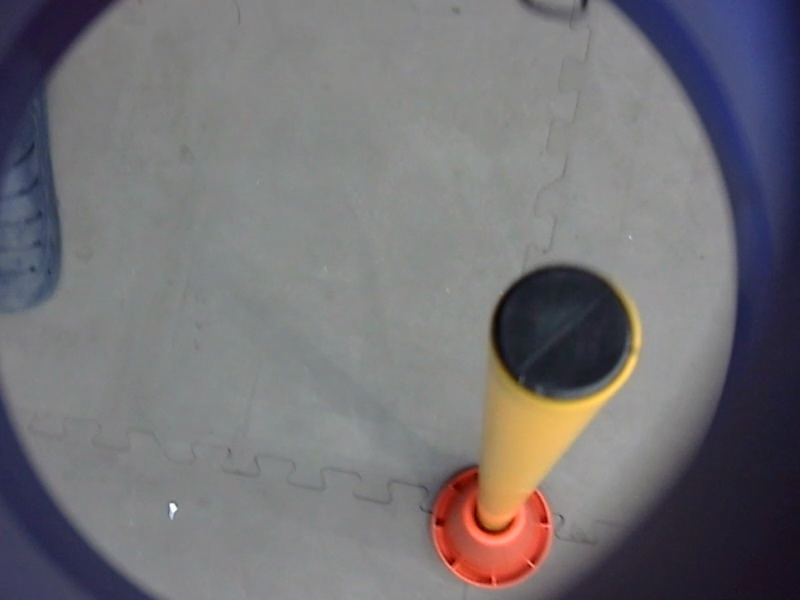tip: (479, 256, 650, 412)
